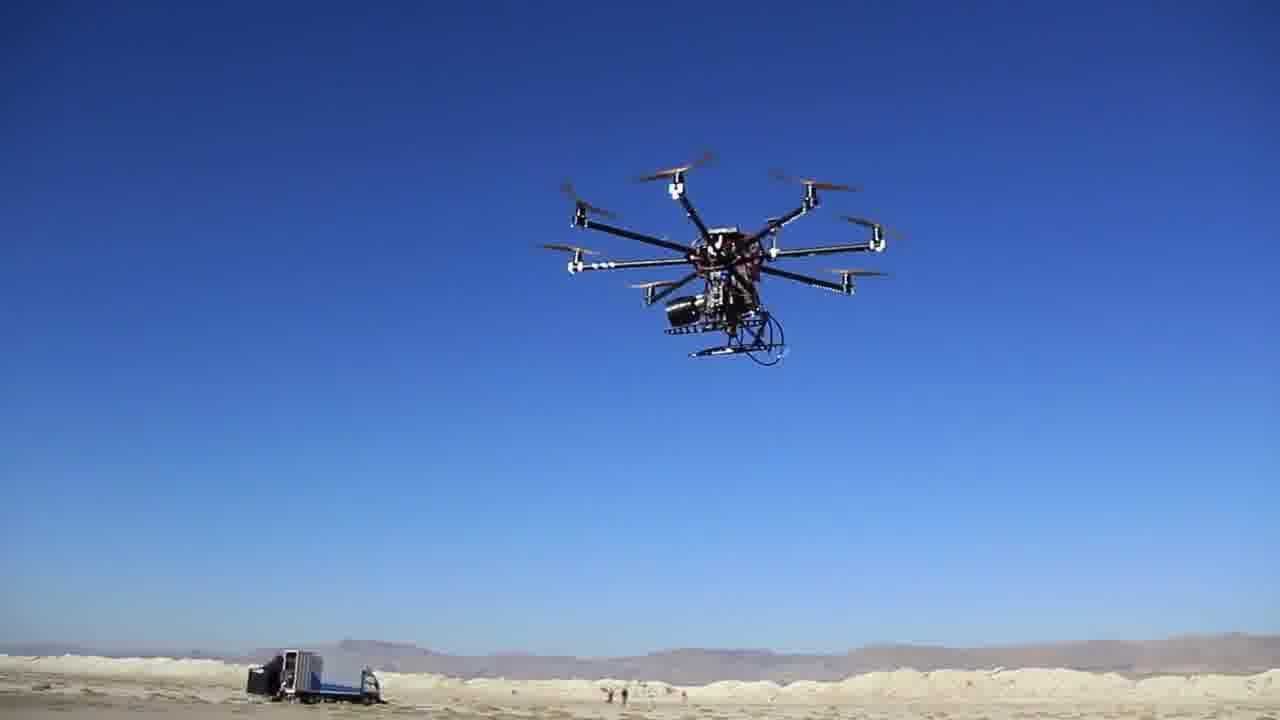drone: (542, 138, 854, 370)
